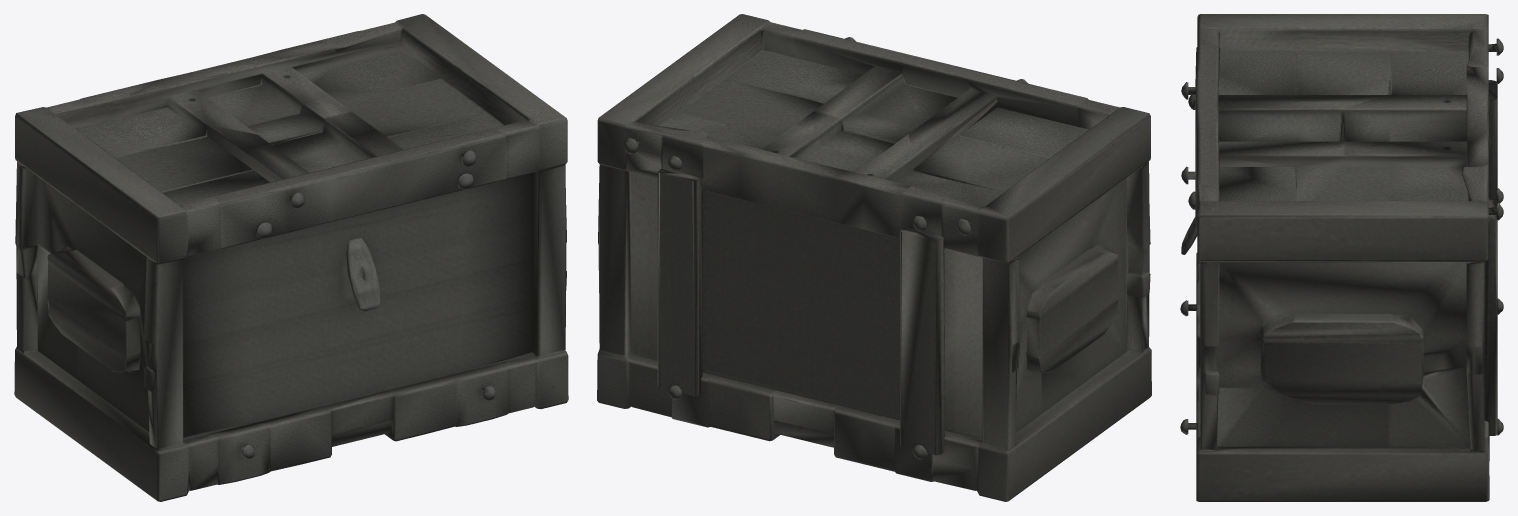
File: WoodenCrate.fbx
3 renders of one model, left to right at view 1: azimuth 30°, elevation 25°; view 2: azimuth 150°, elevation 25°; view 3: azimuth 270°, elevation 25°, orthographic.
Visible parts, largest first — view 1: mesh_node; view 2: mesh_node; view 3: mesh_node.
Boxes of the visible parts, x1,y1,x2,y2 form: mesh_node: (14, 14, 568, 501); mesh_node: (597, 14, 1151, 501); mesh_node: (1180, 14, 1503, 501).
Size of the model in its own units: 191 by 124 by 126.
1 material, 1 textured.
